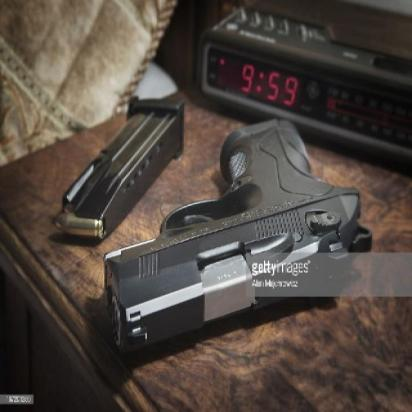Gun: (100, 110, 378, 367)
